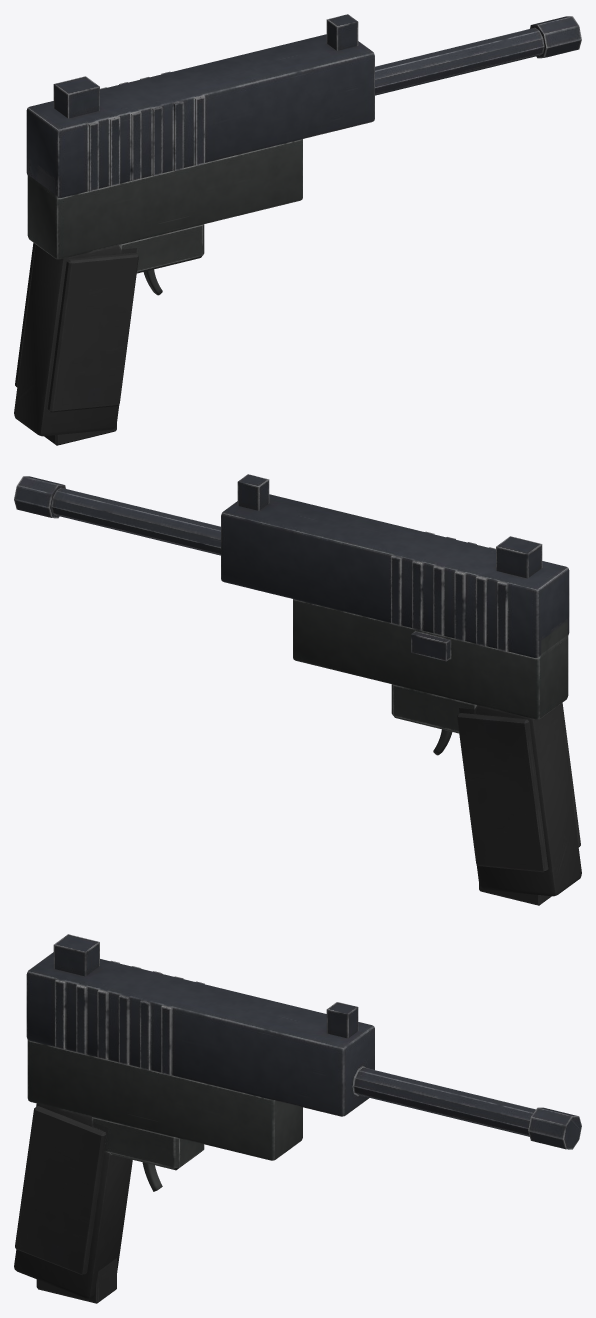
The model's file is weapon_pistol.glb.
3 renders of one model, top to bottom at view 1: azimuth 30°, elevation 25°; view 2: azimuth 150°, elevation 25°; view 3: azimuth 330°, elevation 25°, orthographic.
Parts seen in each view (by area): view 1: Body, IronSights, DefaultMuzzle; view 2: Body, IronSights, DefaultMuzzle; view 3: Body, IronSights, DefaultMuzzle, DefaultMag.
Part boxes in pixels (x1=…): Body: x1=14, y1=27, x2=544, y2=436; IronSights: x1=53, y1=14, x2=358, y2=118; DefaultMuzzle: x1=530, y1=16, x2=581, y2=58; Body: x1=51, y1=487, x2=581, y2=896; IronSights: x1=237, y1=474, x2=542, y2=578; DefaultMuzzle: x1=14, y1=476, x2=65, y2=518; Body: x1=14, y1=952, x2=535, y2=1298; IronSights: x1=53, y1=934, x2=358, y2=1038; DefaultMuzzle: x1=528, y1=1107, x2=581, y2=1149; DefaultMag: x1=36, y1=1258, x2=116, y2=1303.
Size of the model in its own units: 0.3088 by 0.187 by 0.037.
1 material, 1 textured.
